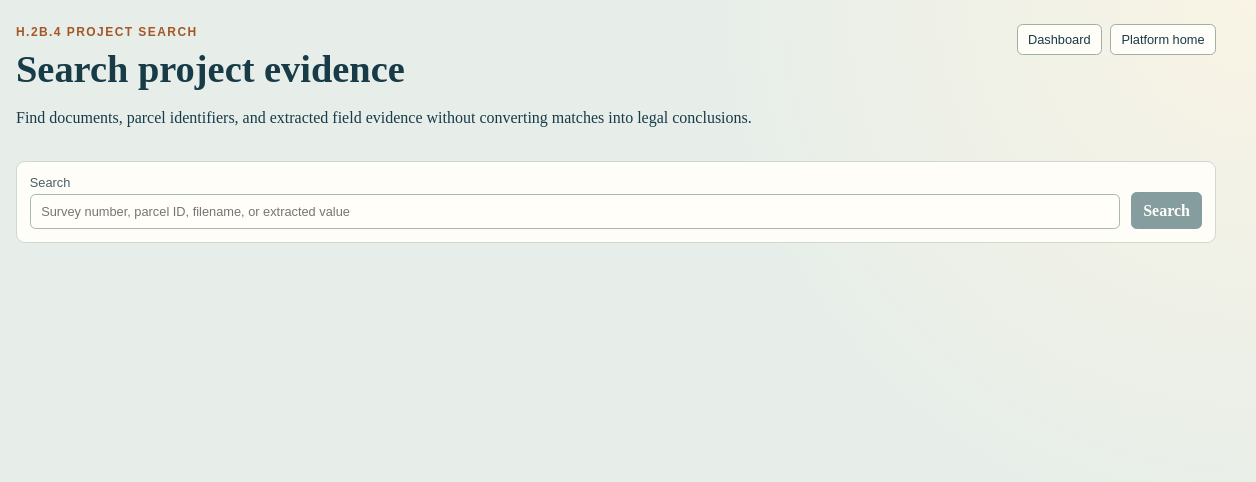
Test: H.2B.4 platform workspaces › searches evidence and preserves preliminary labels
Step 1. Type "123/4" into the field named "Search project" → (575, 212), box [30,194,1120,229]
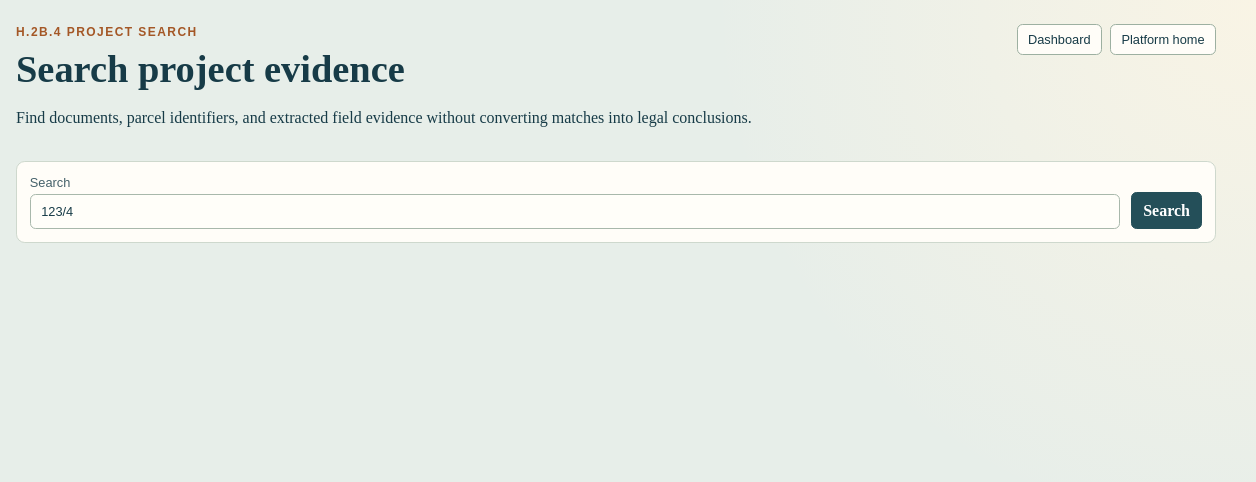
Step 2. Click the button "Search" → (1167, 211), box [1131,192,1202,229]
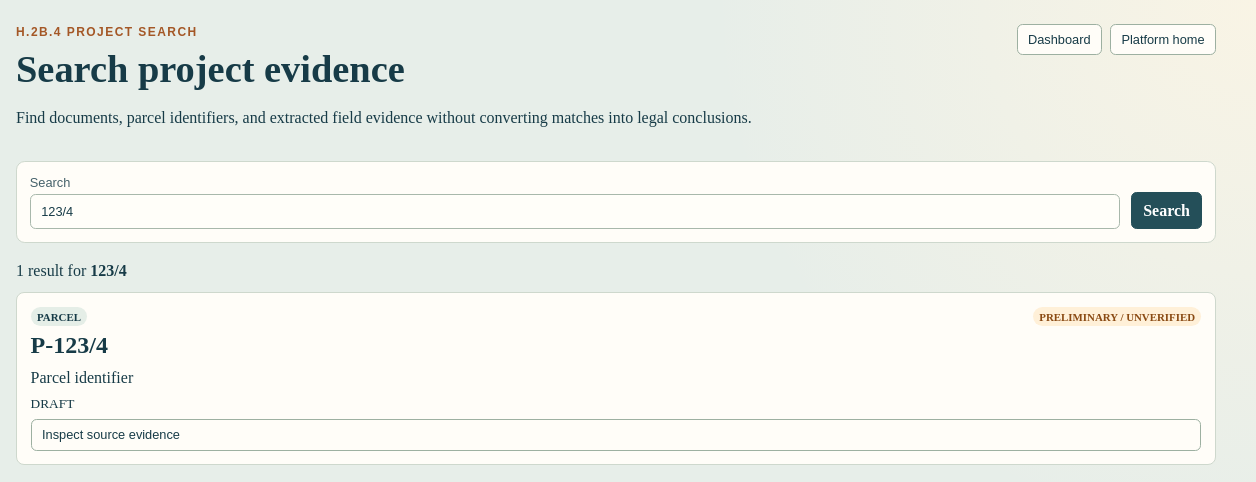
Check: the heading "P-123/4" is shown, box [31,332,108,358]
Check: the text "PRELIMINARY / UNVERIFIED" is shown, box [1033,307,1201,326]
